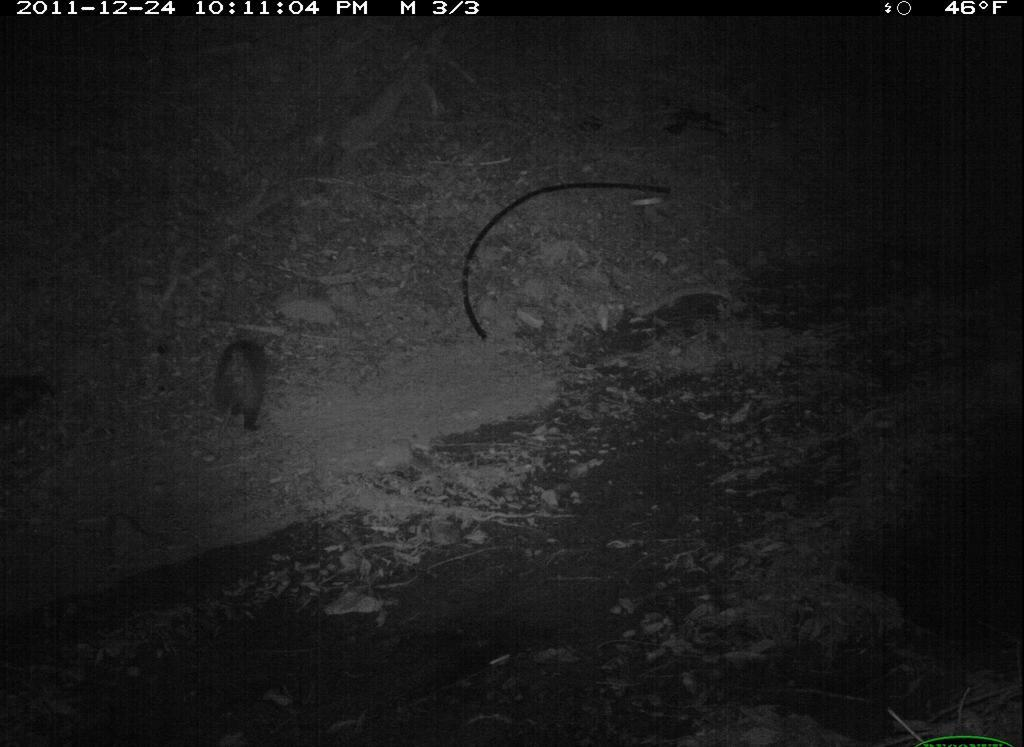opossum: (212, 333, 274, 443)
